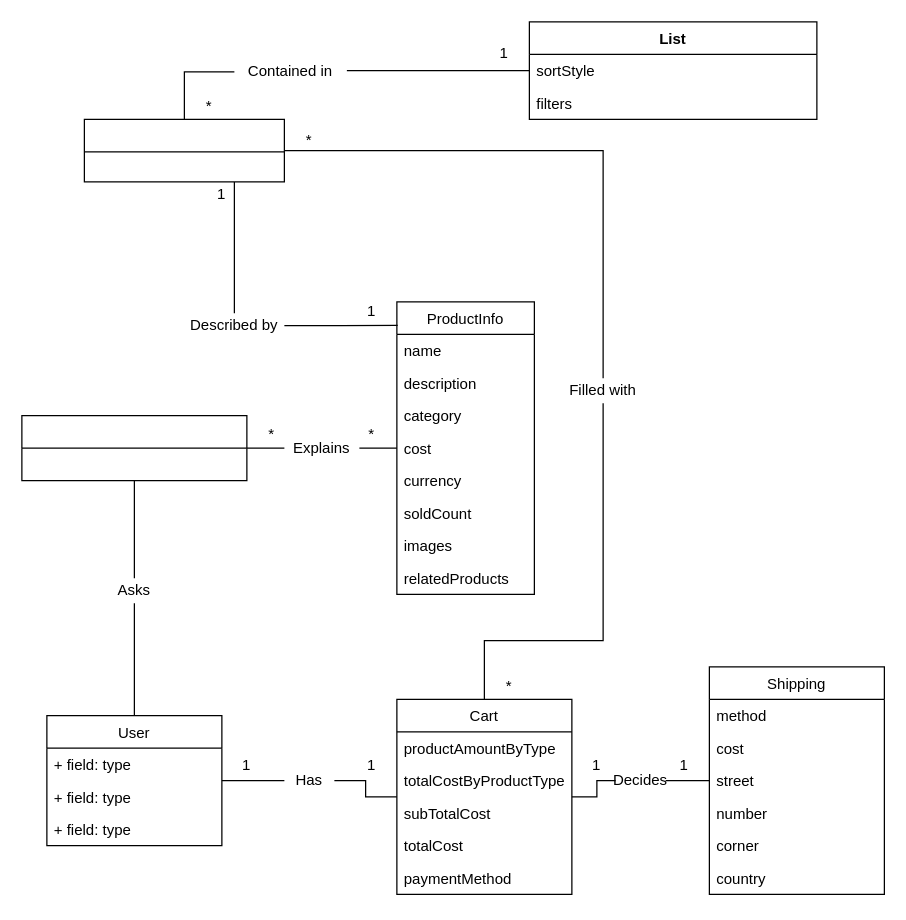
Image size: 906x920. Some labels were removed from this diagram. Each missing label, with the centre of its shape:
"Product" belongs at (x=183, y=150).
"Vendor" belongs at (x=134, y=447).
